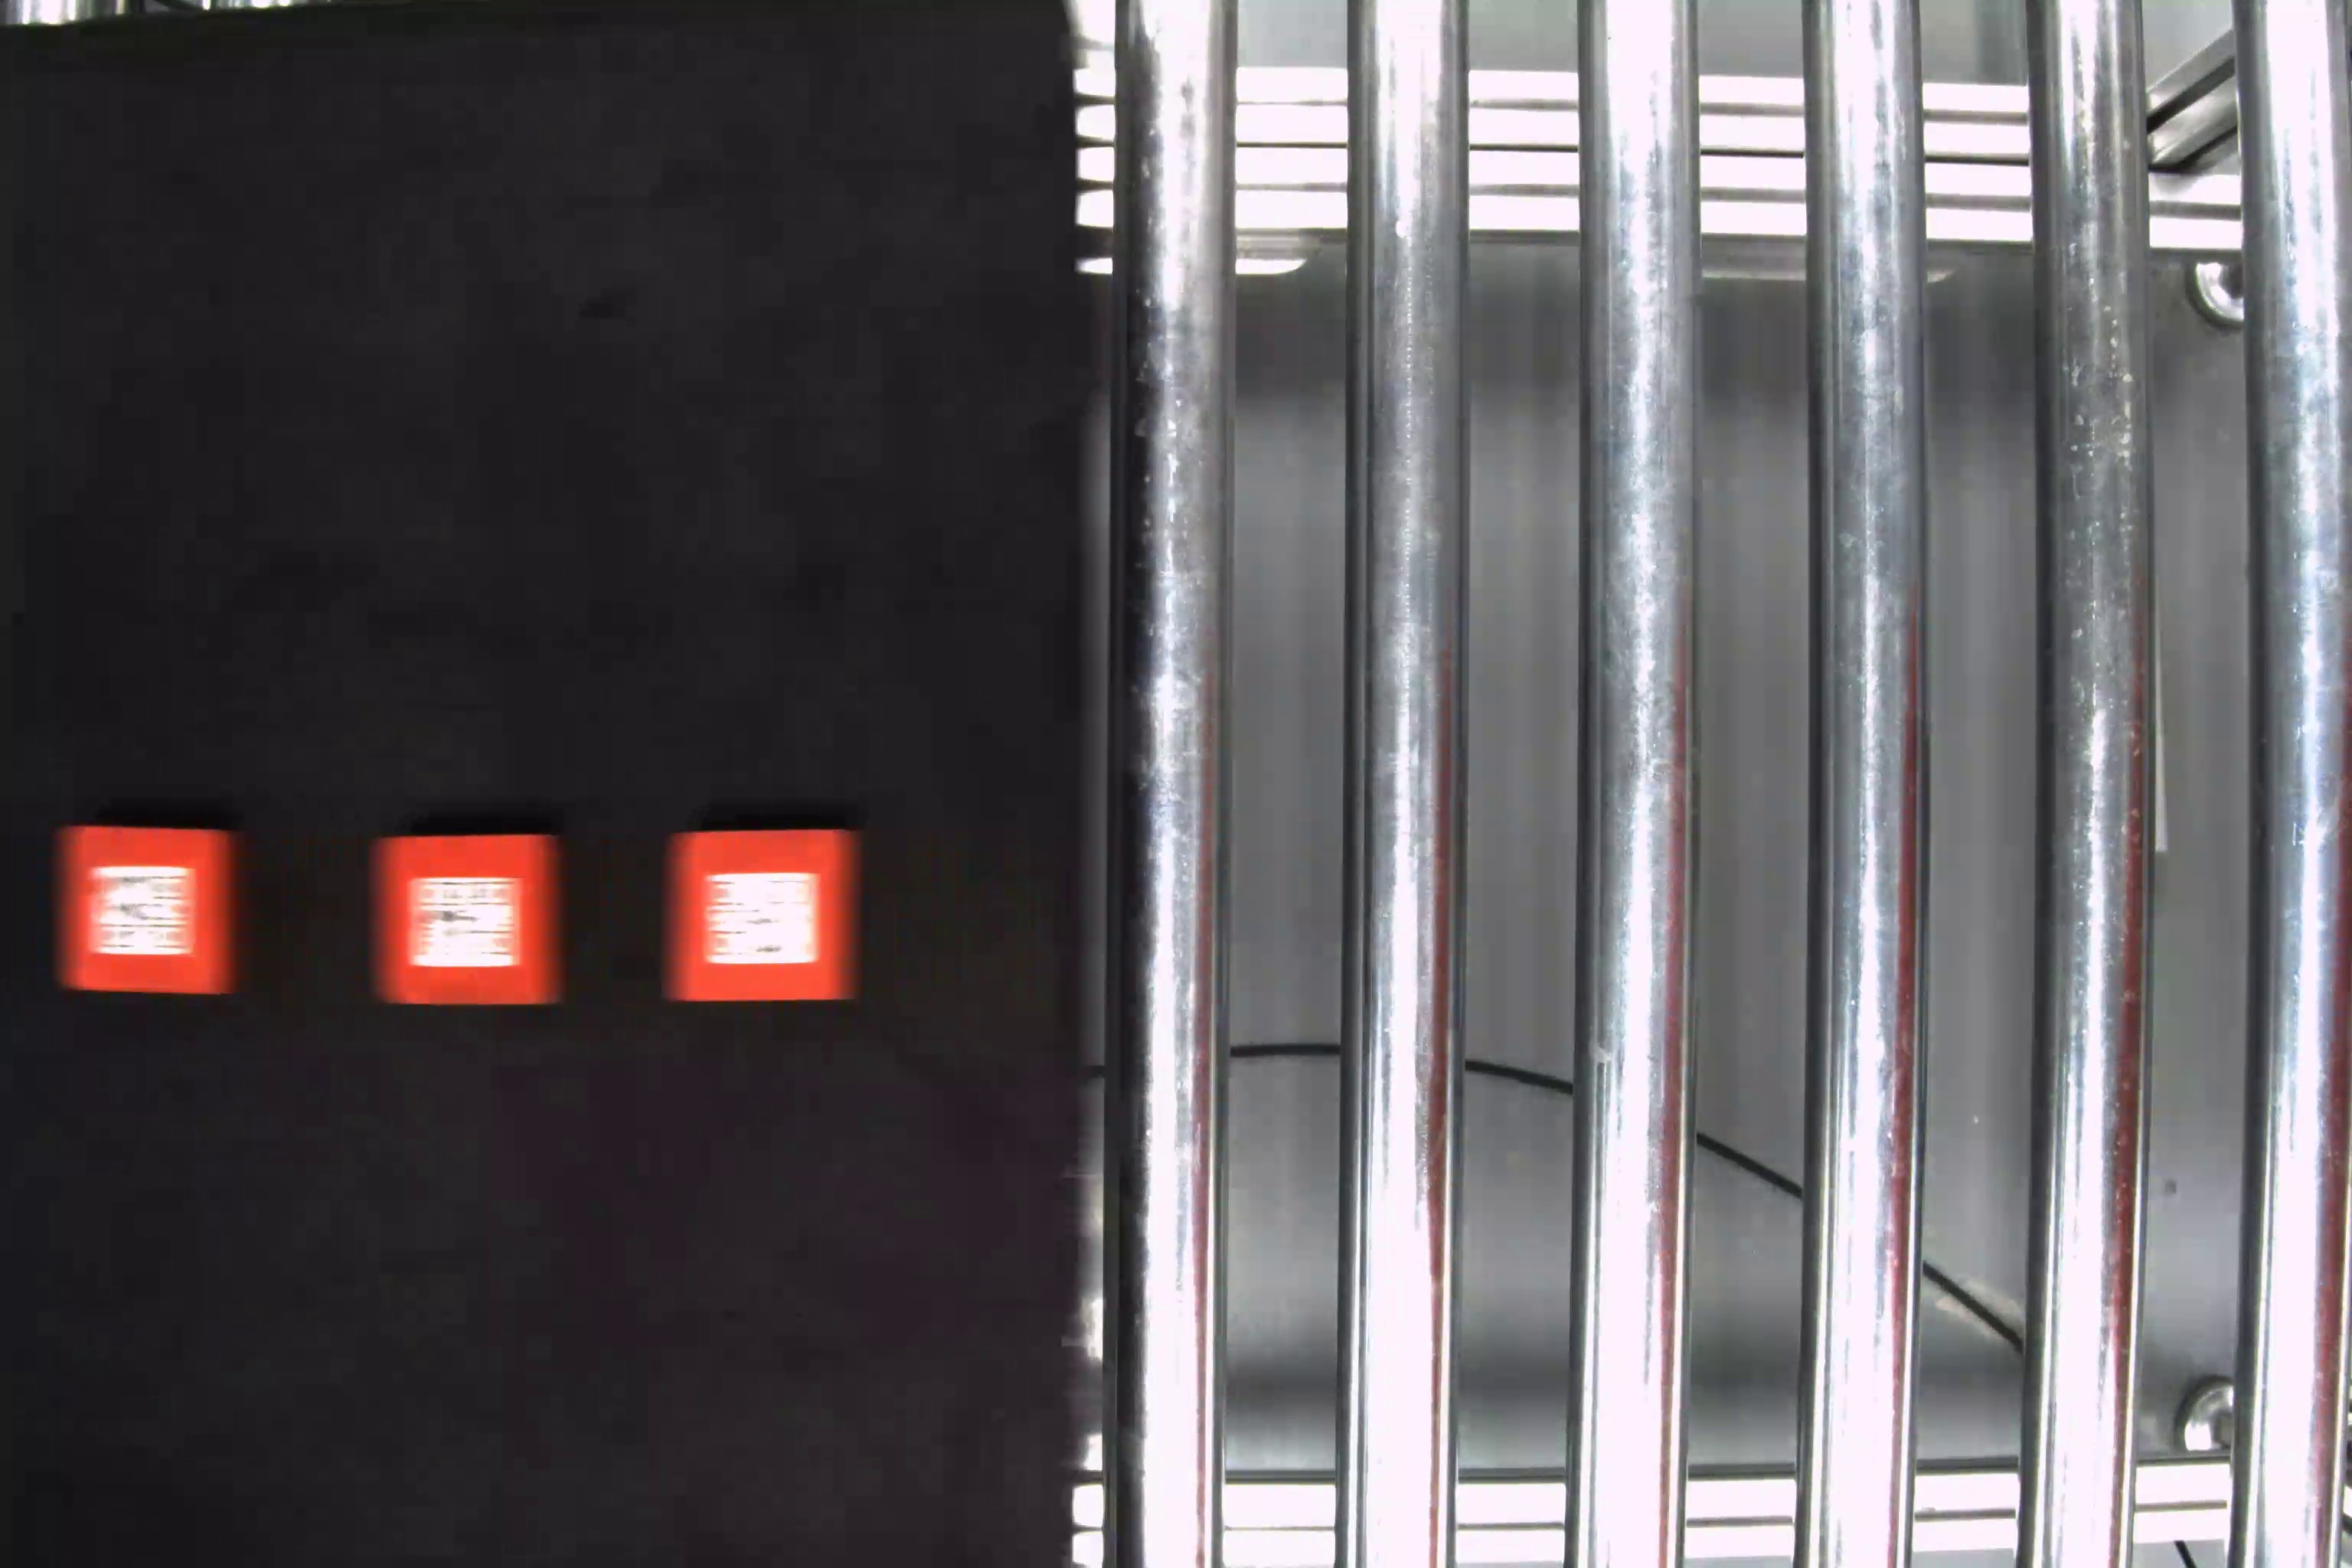wood: (51, 821, 255, 1003), (367, 833, 567, 1013), (661, 824, 857, 1003)
